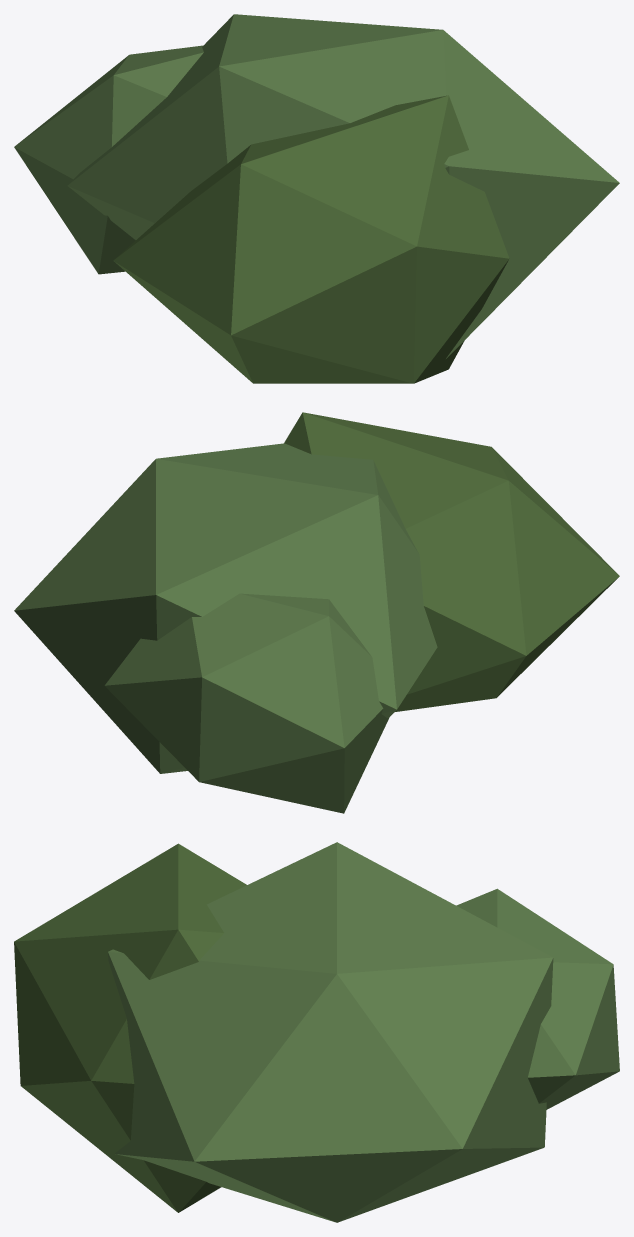
Rendered from bush_1.glb.
3 renders of one model, top to bottom at view 1: azimuth 30°, elevation 25°; view 2: azimuth 150°, elevation 25°; view 3: azimuth 270°, elevation 25°, orthographic. The views are drawn at different scales.
Visible parts, largest first — view 1: bush_1; view 2: bush_1; view 3: bush_1.
Part boxes in pixels (bbox=[...]): bush_1: bbox=[14, 14, 619, 383]; bush_1: bbox=[14, 412, 619, 813]; bush_1: bbox=[14, 842, 619, 1222].
Bounding box in the file's own units: 0.7463 × 0.4408 × 0.8239.
